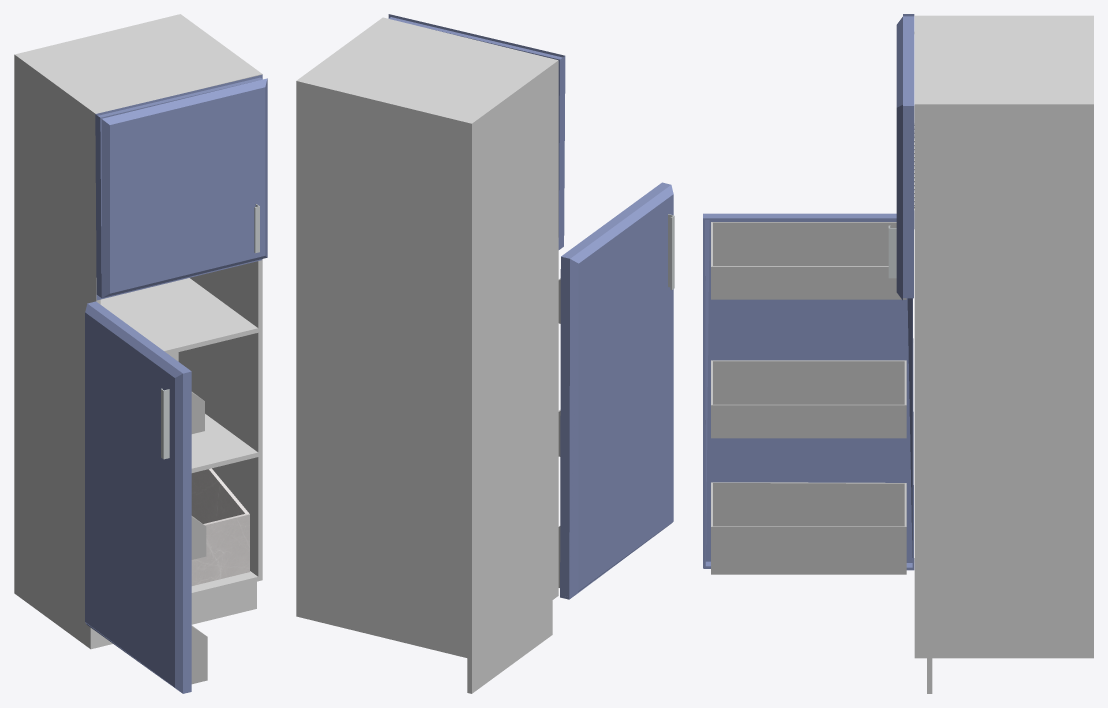
Rendered from Fridge.fbx.
3 renders of one model, left to right at view 1: azimuth 30°, elevation 25°; view 2: azimuth 150°, elevation 25°; view 3: azimuth 270°, elevation 25°, orthographic. The views are drawn at different scales.
Visible parts, largest first — view 1: Cabinet1_Door.005, Cabinet1_Door.003, Cabinet1_Door.004, Cube.004, Baseboard1.004, Cube.001, Handle.007; view 2: Cabinet1_Door.005, Cabinet1_Door.003, Baseboard1.004, Cabinet1_Door.004; view 3: Cabinet1_Door.005, Cube.001, Cabinet1_Door.003, Cabinet1_Door.004.
Part boxes in pixels (x1=…): Cabinet1_Door.005: x1=14, y1=14, x2=262, y2=611; Cabinet1_Door.003: x1=85, y1=301, x2=191, y2=693; Cabinet1_Door.004: x1=95, y1=74, x2=267, y2=297; Cube.004: x1=191, y1=468, x2=249, y2=585; Baseboard1.004: x1=14, y1=561, x2=256, y2=649; Cube.001: x1=191, y1=392, x2=207, y2=684; Handle.007: x1=161, y1=388, x2=169, y2=459; Cabinet1_Door.005: x1=296, y1=17, x2=558, y2=659; Cabinet1_Door.003: x1=560, y1=182, x2=673, y2=599; Baseboard1.004: x1=467, y1=600, x2=552, y2=693; Cabinet1_Door.004: x1=388, y1=14, x2=565, y2=249; Cabinet1_Door.005: x1=914, y1=15, x2=1093, y2=658; Cube.001: x1=711, y1=222, x2=906, y2=574; Cabinet1_Door.003: x1=703, y1=213, x2=914, y2=570; Cabinet1_Door.004: x1=888, y1=14, x2=914, y2=300.
Bounding box in the file's own units: 77.88 × 214 × 129.
